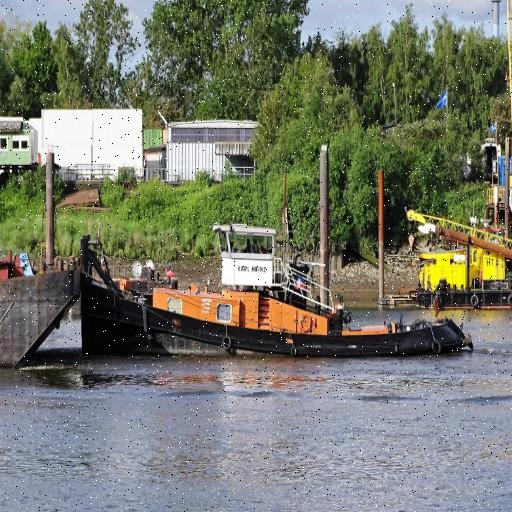tugboat: (79, 214, 478, 376)
